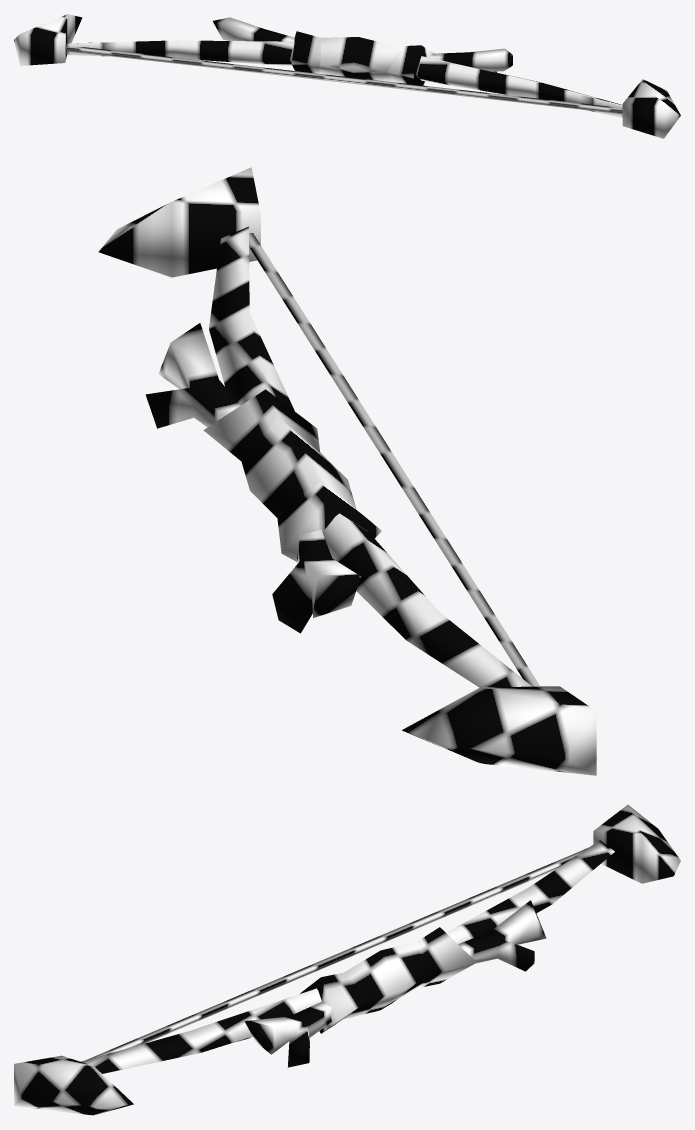
File: initwebw3.dae
The picture shows the model from 3 angles, top to bottom: view 1: azimuth 30°, elevation 25°; view 2: azimuth 150°, elevation 25°; view 3: azimuth 270°, elevation 25°; orthographic projection. The views are drawn at different scales.
Parts seen in each view (by area): view 1: weapon; view 2: weapon; view 3: weapon.
Boxes of the visible parts, x1=… form: weapon: x1=14, y1=14, x2=680, y2=138; weapon: x1=98, y1=167, x2=596, y2=775; weapon: x1=14, y1=804, x2=680, y2=1115.
Size of the model in its own units: 2.45 by 2.45 by 0.2427.
Materials: 1 (1 with a texture image).
